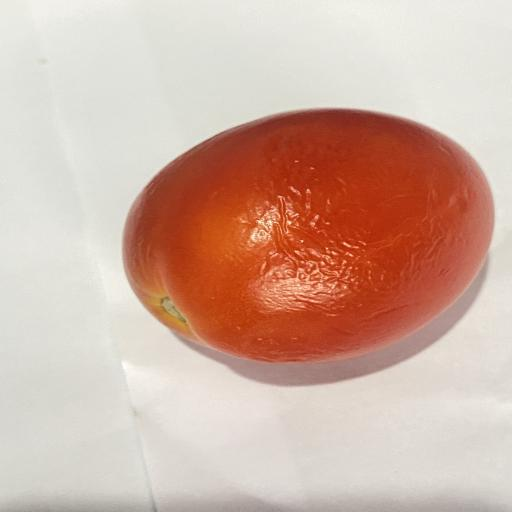spoiled: (123, 109, 494, 363)
